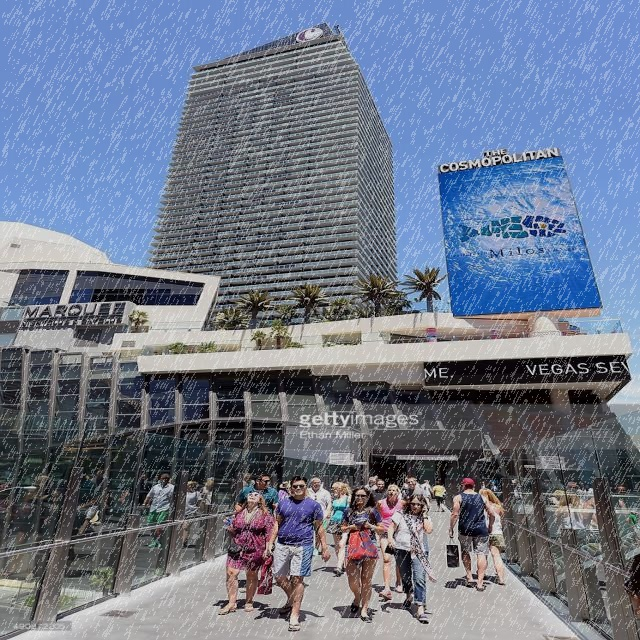pessoa: (265, 473, 333, 633), (209, 490, 277, 616), (386, 493, 438, 623), (339, 486, 386, 623), (448, 477, 498, 592), (374, 482, 410, 600), (477, 488, 510, 586), (137, 472, 174, 548), (324, 481, 352, 577), (304, 477, 332, 557), (234, 471, 281, 517), (180, 481, 208, 548), (582, 496, 630, 530), (552, 491, 586, 536), (118, 473, 154, 515), (548, 477, 596, 507), (622, 550, 640, 620), (74, 475, 100, 519), (400, 476, 430, 500), (368, 479, 389, 509), (430, 479, 448, 513), (198, 478, 216, 505), (512, 476, 525, 513), (420, 480, 433, 510), (399, 476, 422, 492), (151, 474, 178, 487), (88, 468, 105, 488), (614, 483, 632, 501), (277, 480, 293, 500), (362, 476, 380, 492), (471, 480, 497, 490), (242, 472, 256, 489), (627, 508, 639, 526), (280, 488, 294, 500), (336, 477, 348, 482), (372, 476, 384, 480)
